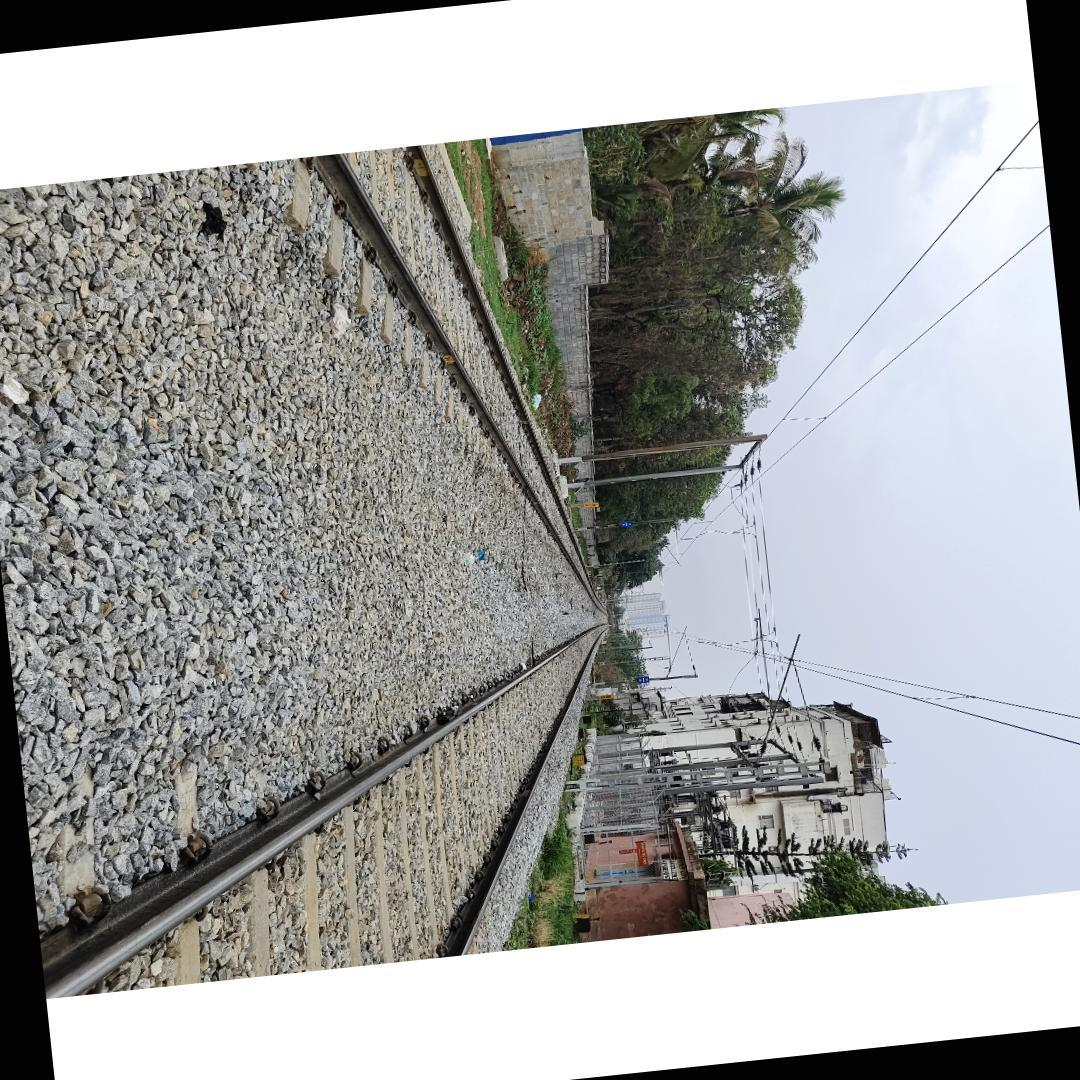track: (39, 613, 613, 999), (218, 143, 589, 603)
